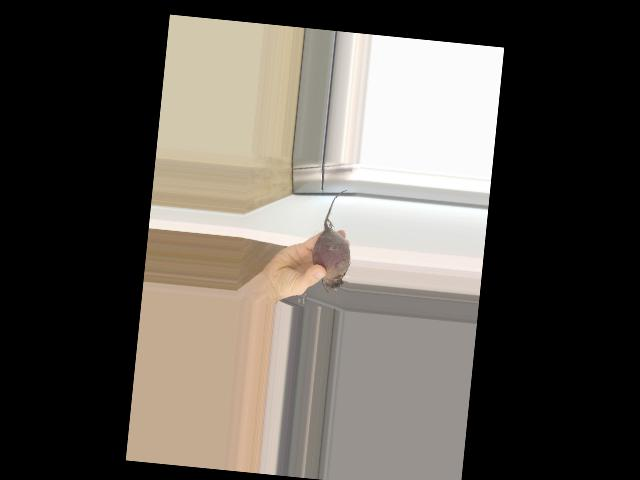beet: (309, 187, 357, 295)
